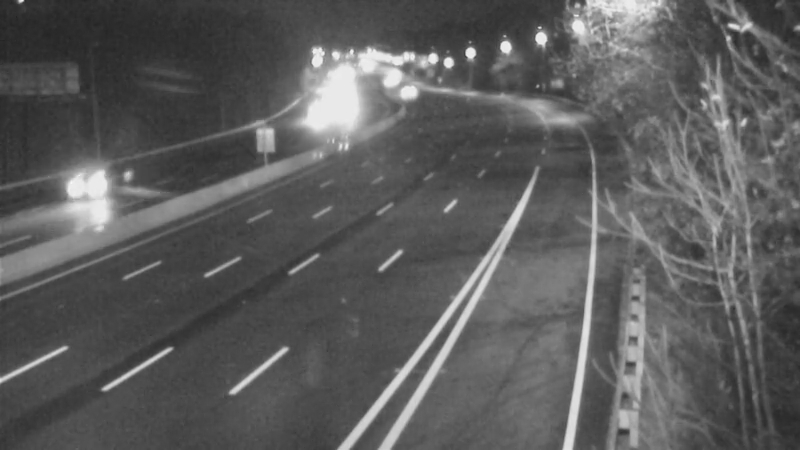vehicle: (51, 151, 131, 231), (382, 66, 432, 116)
